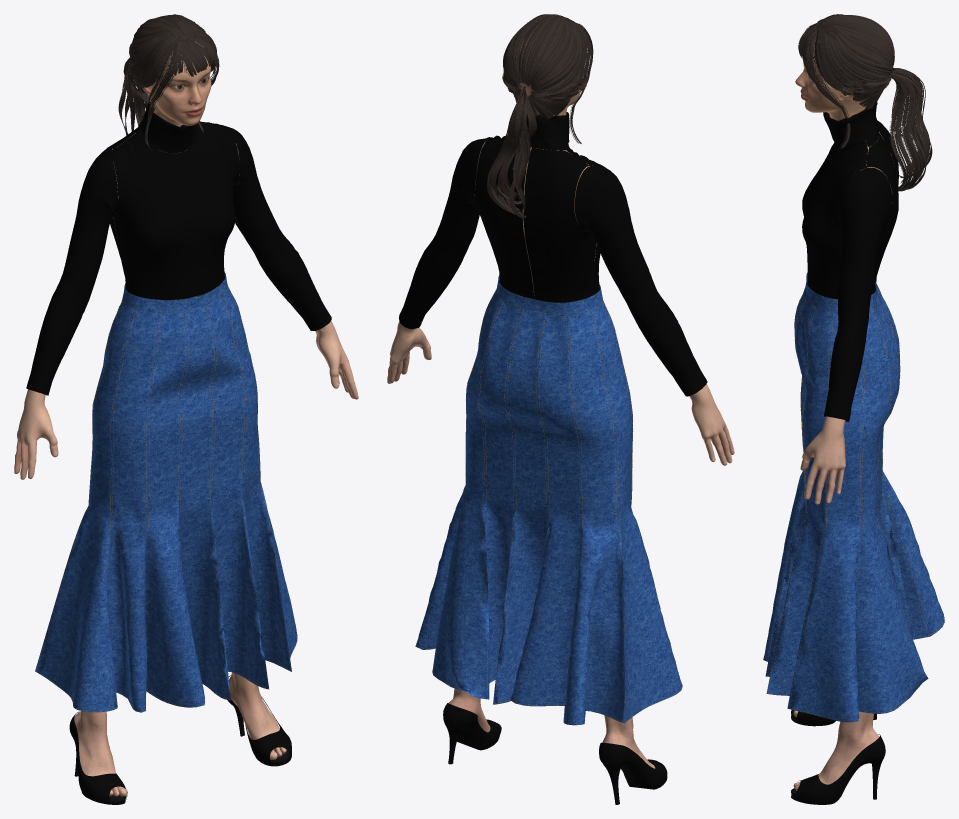
3 renders of one model, left to right at view 1: azimuth 30°, elevation 25°; view 2: azimuth 150°, elevation 25°; view 3: azimuth 270°, elevation 25°, orthographic.
Parts seen in each view (by area): view 1: Cloth, Avatar; view 2: Cloth, Avatar; view 3: Cloth, Avatar.
Boxes of the visible parts, bbox=[...] form: Cloth: bbox=[26, 102, 331, 712]; Avatar: bbox=[14, 14, 358, 804]; Cloth: bbox=[399, 112, 707, 725]; Avatar: bbox=[387, 14, 734, 804]; Cloth: bbox=[763, 102, 944, 722]; Avatar: bbox=[791, 14, 932, 804].
Bounding box in the file's own units: 0.7919 × 1.68 × 0.3736.
Materials: 16 (15 with a texture image).
